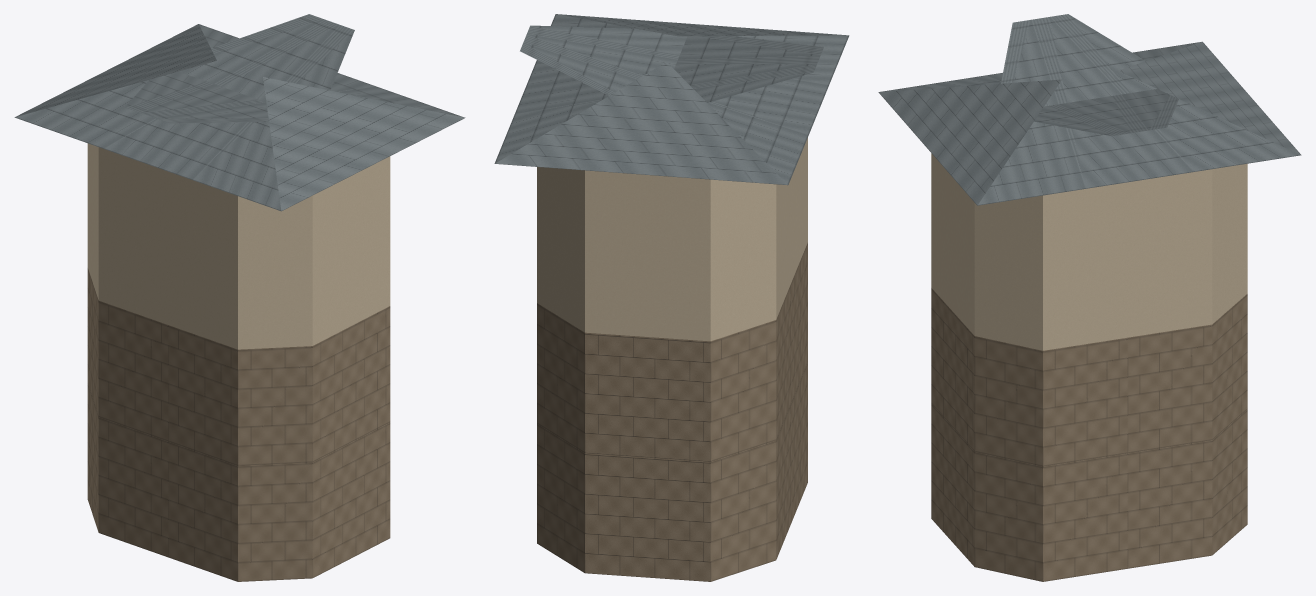
The model's file is bld_c-1_1_530.gltf.
The picture shows the model from 3 angles, left to right: view 1: azimuth 30°, elevation 25°; view 2: azimuth 150°, elevation 25°; view 3: azimuth 270°, elevation 25°; orthographic projection. The views are drawn at different scales.
Parts seen in each view (by area): view 1: bld_c-1_1_530; view 2: bld_c-1_1_530; view 3: bld_c-1_1_530.
Part boxes in pixels (left/top/right/bottom): bld_c-1_1_530: left=14, top=14, right=465, bottom=581; bld_c-1_1_530: left=494, top=14, right=849, bottom=581; bld_c-1_1_530: left=878, top=14, right=1301, bottom=581.
Bounding box in the file's own units: 7.24 × 9.2 × 7.9.
Materials: 3 (3 with a texture image).
